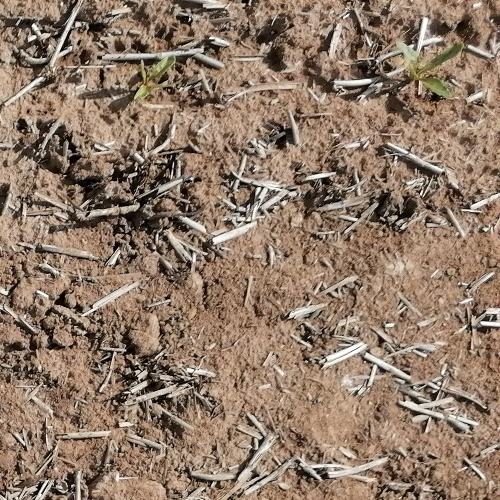beet: (396, 41, 463, 99), (131, 54, 176, 99)
